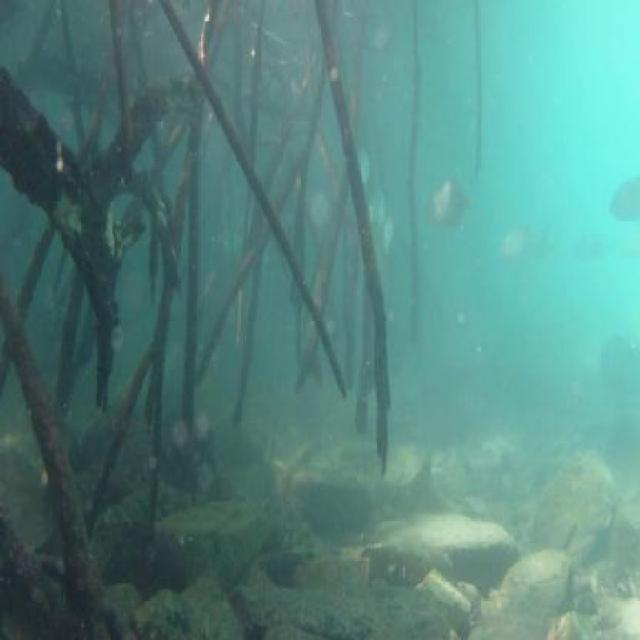Caranx_sexfasciatus_juvenile: (426, 164, 482, 242), (495, 219, 550, 281), (604, 181, 640, 230)
